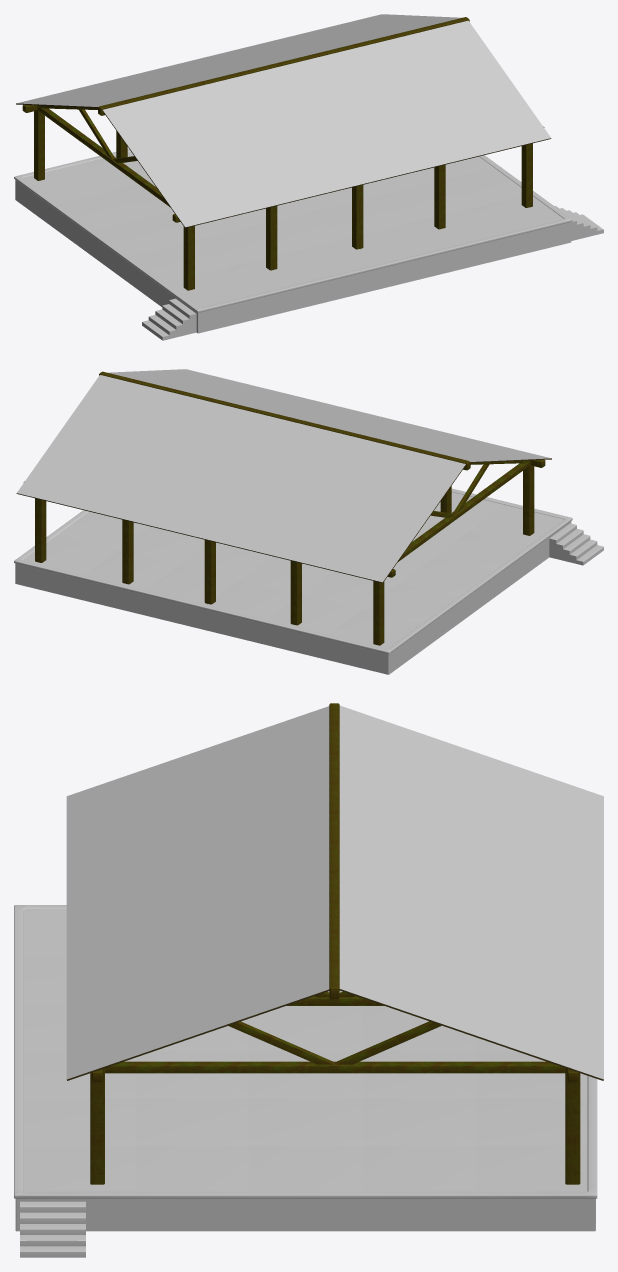
The model's file is CasaControle_30mai.fbx.
3 renders of one model, top to bottom at view 1: azimuth 30°, elevation 25°; view 2: azimuth 150°, elevation 25°; view 3: azimuth 270°, elevation 25°, orthographic. The views are drawn at different scales.
Visible parts, largest first — view 1: pCube826; view 2: pCube826; view 3: pCube826.
Part boxes in pixels (bbox=[...]): pCube826: bbox=[14, 14, 603, 340]; pCube826: bbox=[14, 369, 603, 674]; pCube826: bbox=[14, 703, 603, 1257].
Bounding box in the file's own units: 2288 × 753 × 1670.
